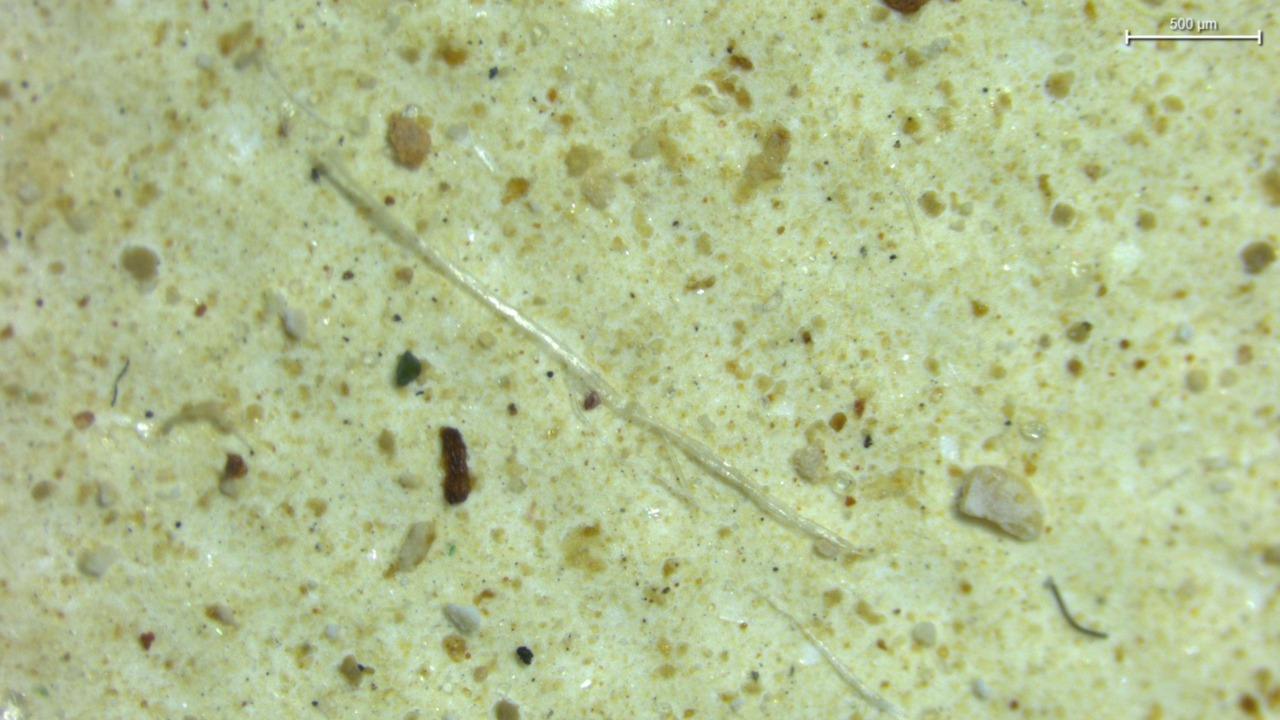microplastic_fragment: (957, 466, 1042, 540), (790, 446, 827, 483), (77, 546, 119, 578), (442, 603, 481, 633)
